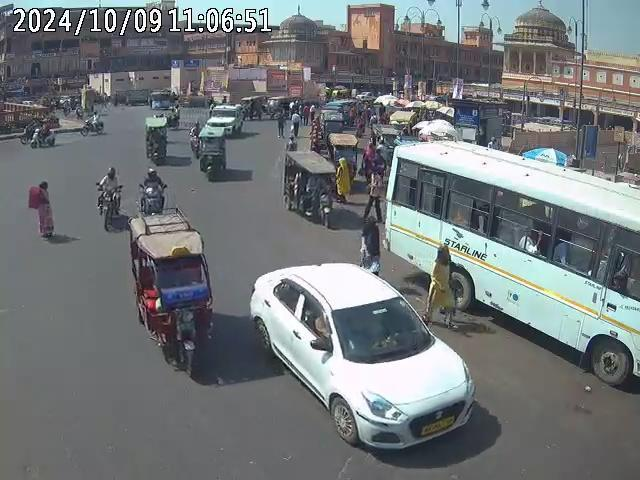auto: (127, 212, 216, 375), (281, 148, 340, 225), (196, 126, 227, 180), (143, 112, 168, 163), (150, 88, 178, 115)
bus: (382, 137, 640, 369)
car: (247, 261, 480, 453), (204, 103, 244, 136)
helmet: (106, 166, 117, 179), (148, 167, 159, 179)
license_plate: (420, 414, 457, 436)
motorbike-rider: (94, 165, 123, 230), (80, 111, 104, 135)
person: (426, 243, 463, 332), (27, 181, 54, 238), (357, 215, 381, 275), (334, 155, 354, 203), (519, 229, 539, 256)
scooty-rider: (138, 165, 167, 214), (29, 118, 56, 150)
